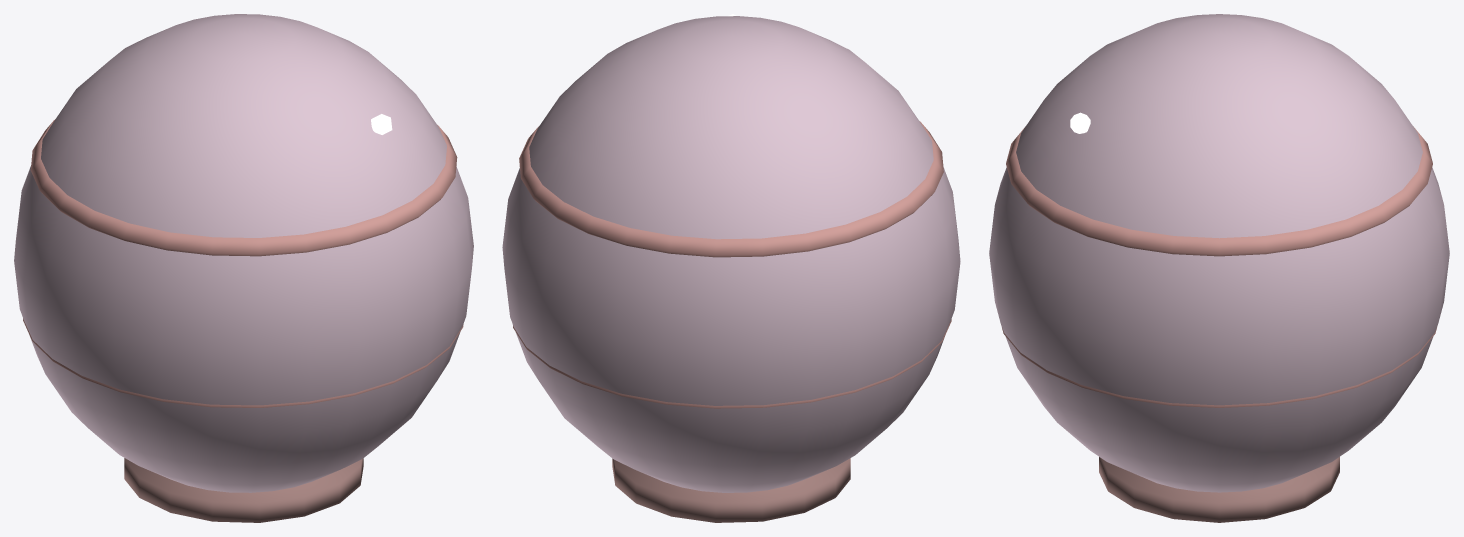
The model's file is egg_blossom_01.glb.
3 views of the same model, side by side, from view 1: azimuth 30°, elevation 25°; view 2: azimuth 150°, elevation 25°; view 3: azimuth 270°, elevation 25° (orthographic).
Parts seen in each view (by area): view 1: ball; view 2: ball; view 3: ball.
Part boxes in pixels (x1=…): ball: x1=14, y1=14, x2=473, y2=522; ball: x1=502, y1=14, x2=960, y2=522; ball: x1=989, y1=14, x2=1449, y2=522.
Bounding box in the file's own units: 0.84 × 0.88 × 0.84.
